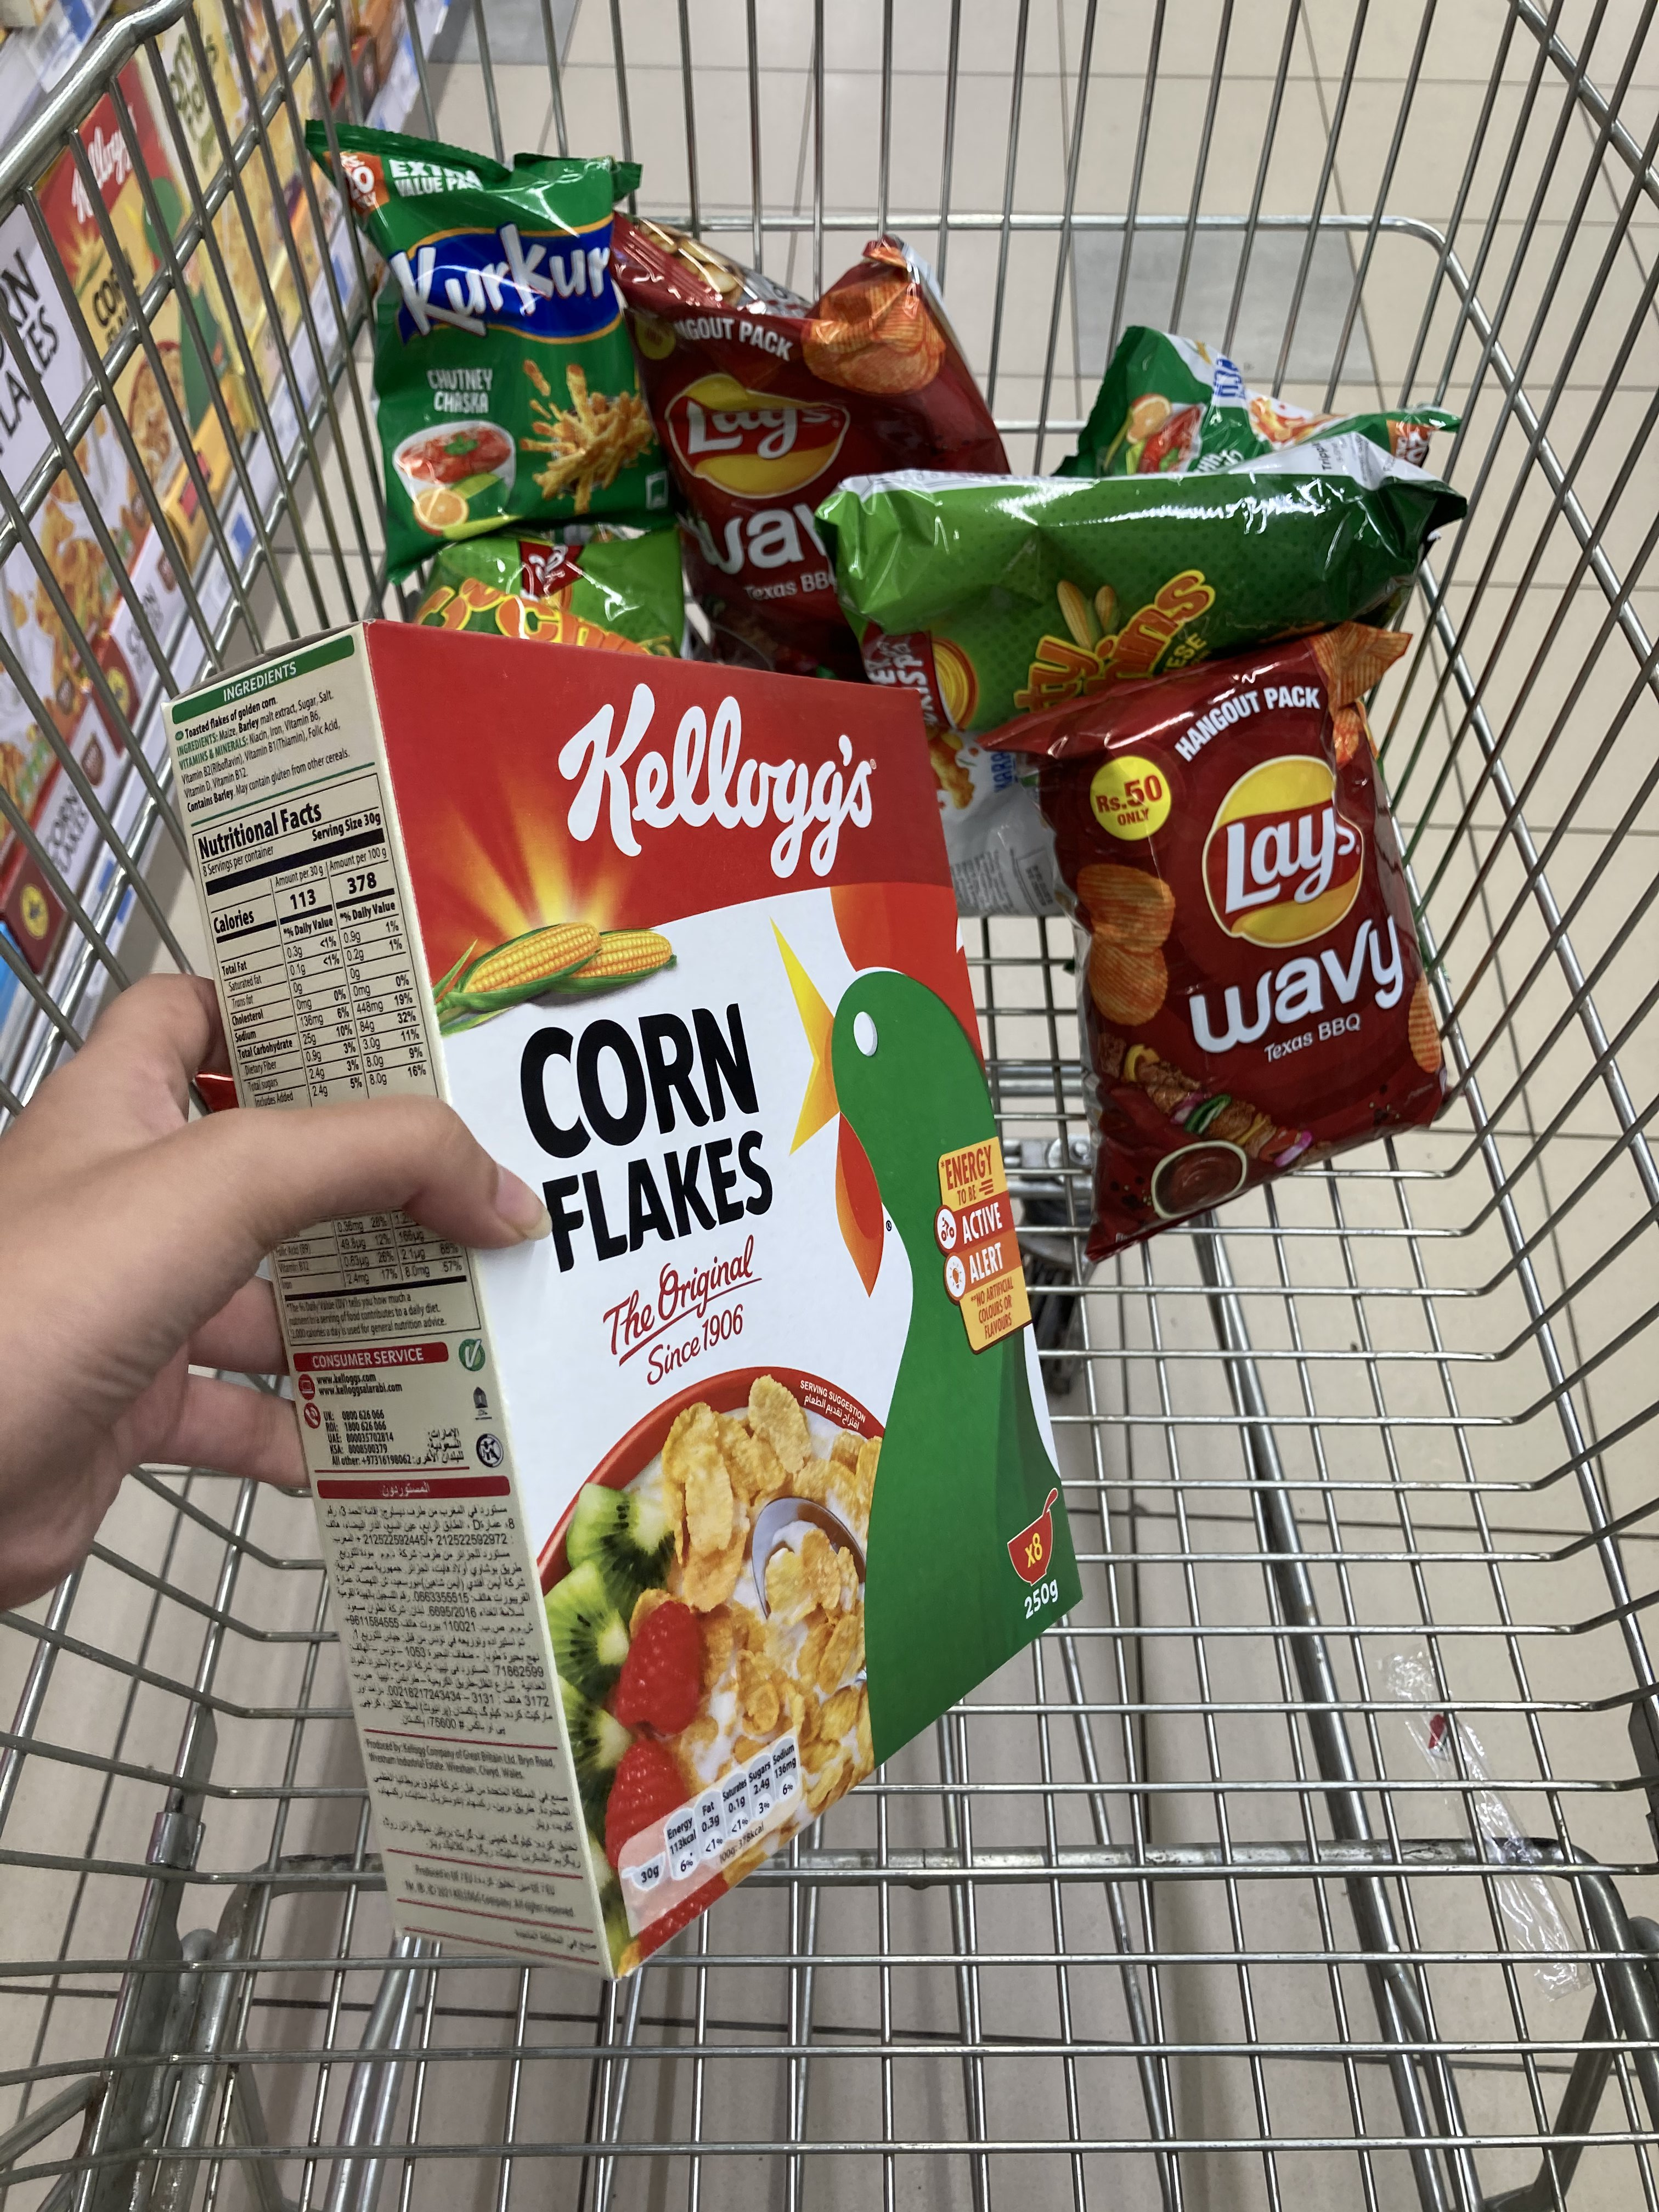Kellogg's Corn Flakes: (152, 624, 1089, 1984)
